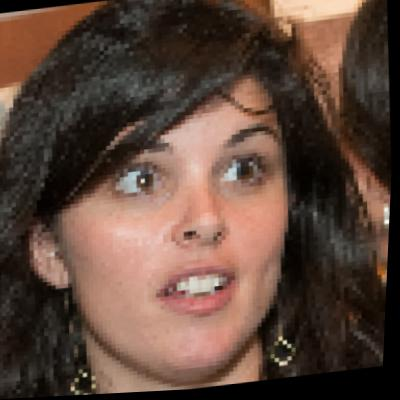surprise: (46, 52, 308, 388)
